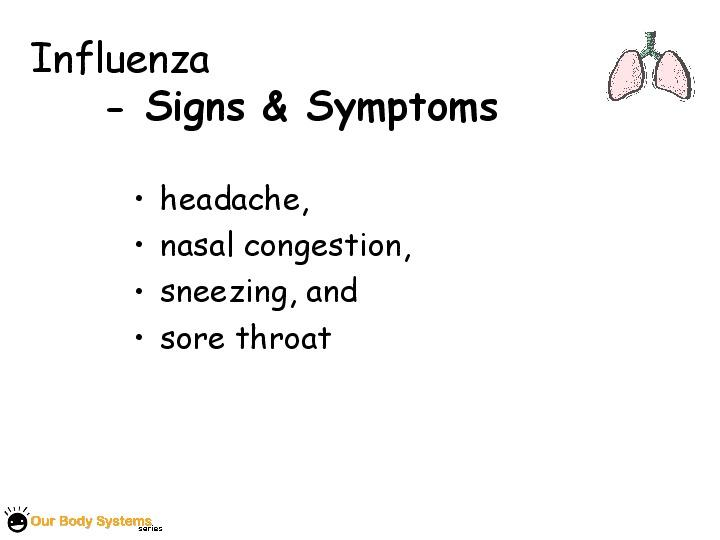paragraph: (121, 173, 494, 373)
title: (23, 21, 542, 146)
